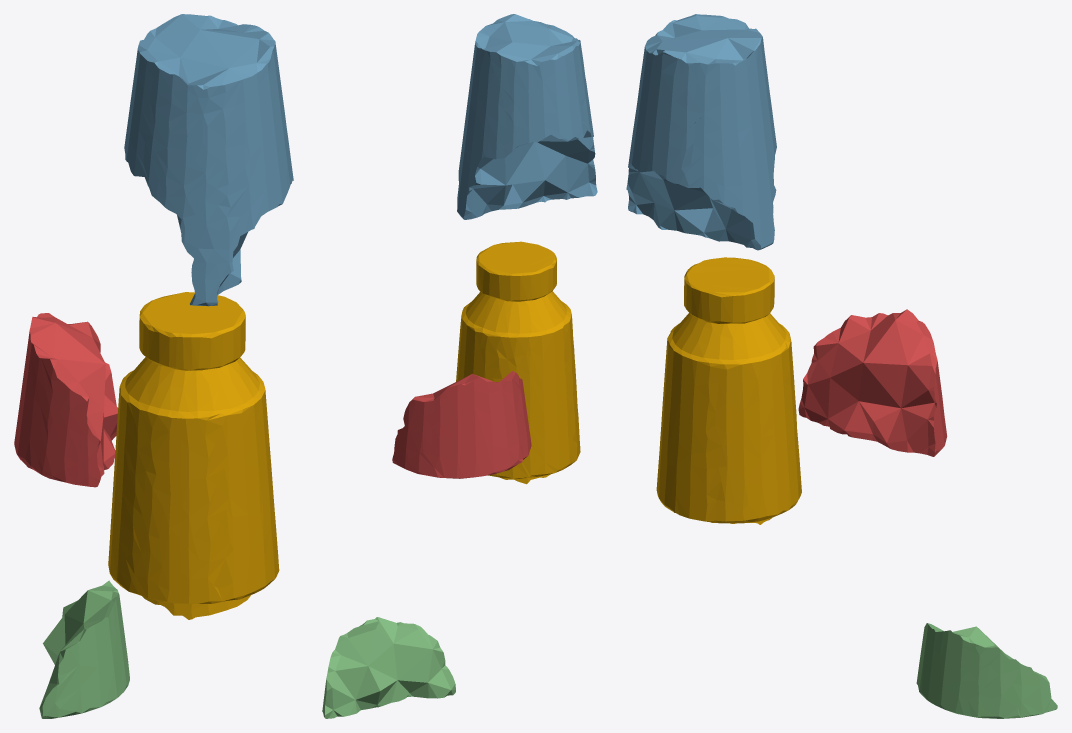
Rendered from mode_4_4pcs_transformed.glb.
3 renders of one model, left to right at view 1: azimuth 30°, elevation 25°; view 2: azimuth 150°, elevation 25°; view 3: azimuth 270°, elevation 25°, orthographic. The views are drawn at different scales.
Visible parts, largest first — view 1: piece_0.obj, piece_2.obj, piece_1.obj, piece_3.obj; view 2: piece_2.obj, piece_0.obj, piece_1.obj, piece_3.obj; view 3: piece_0.obj, piece_2.obj, piece_1.obj, piece_3.obj.
Part boxes in pixels (left/top/right/bottom): piece_0.obj: left=108, top=292, right=279, bottom=619; piece_2.obj: left=124, top=14, right=293, bottom=306; piece_1.obj: left=14, top=313, right=117, bottom=487; piece_3.obj: left=39, top=580, right=129, bottom=718; piece_2.obj: left=457, top=14, right=597, bottom=219; piece_0.obj: left=456, top=241, right=580, bottom=484; piece_1.obj: left=392, top=371, right=531, bottom=478; piece_3.obj: left=322, top=617, right=455, bottom=718; piece_0.obj: left=656, top=257, right=801, bottom=524; piece_2.obj: left=626, top=14, right=776, bottom=250; piece_1.obj: left=798, top=309, right=947, bottom=456; piece_3.obj: left=916, top=623, right=1057, bottom=718.
Size of the model in its own units: 0.3678 by 1.59 by 0.9527.
